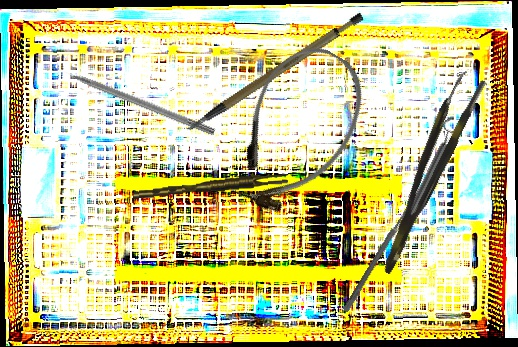Cannula: (210, 31, 383, 229)
Fixation Ring: (387, 116, 466, 245)
Hook Surgical: (50, 61, 217, 137)
Scalpel Handle: (171, 9, 376, 133)
Surgical Spoon: (342, 192, 420, 313)
Tissue Forceps: (365, 68, 488, 276), (132, 173, 289, 199)
